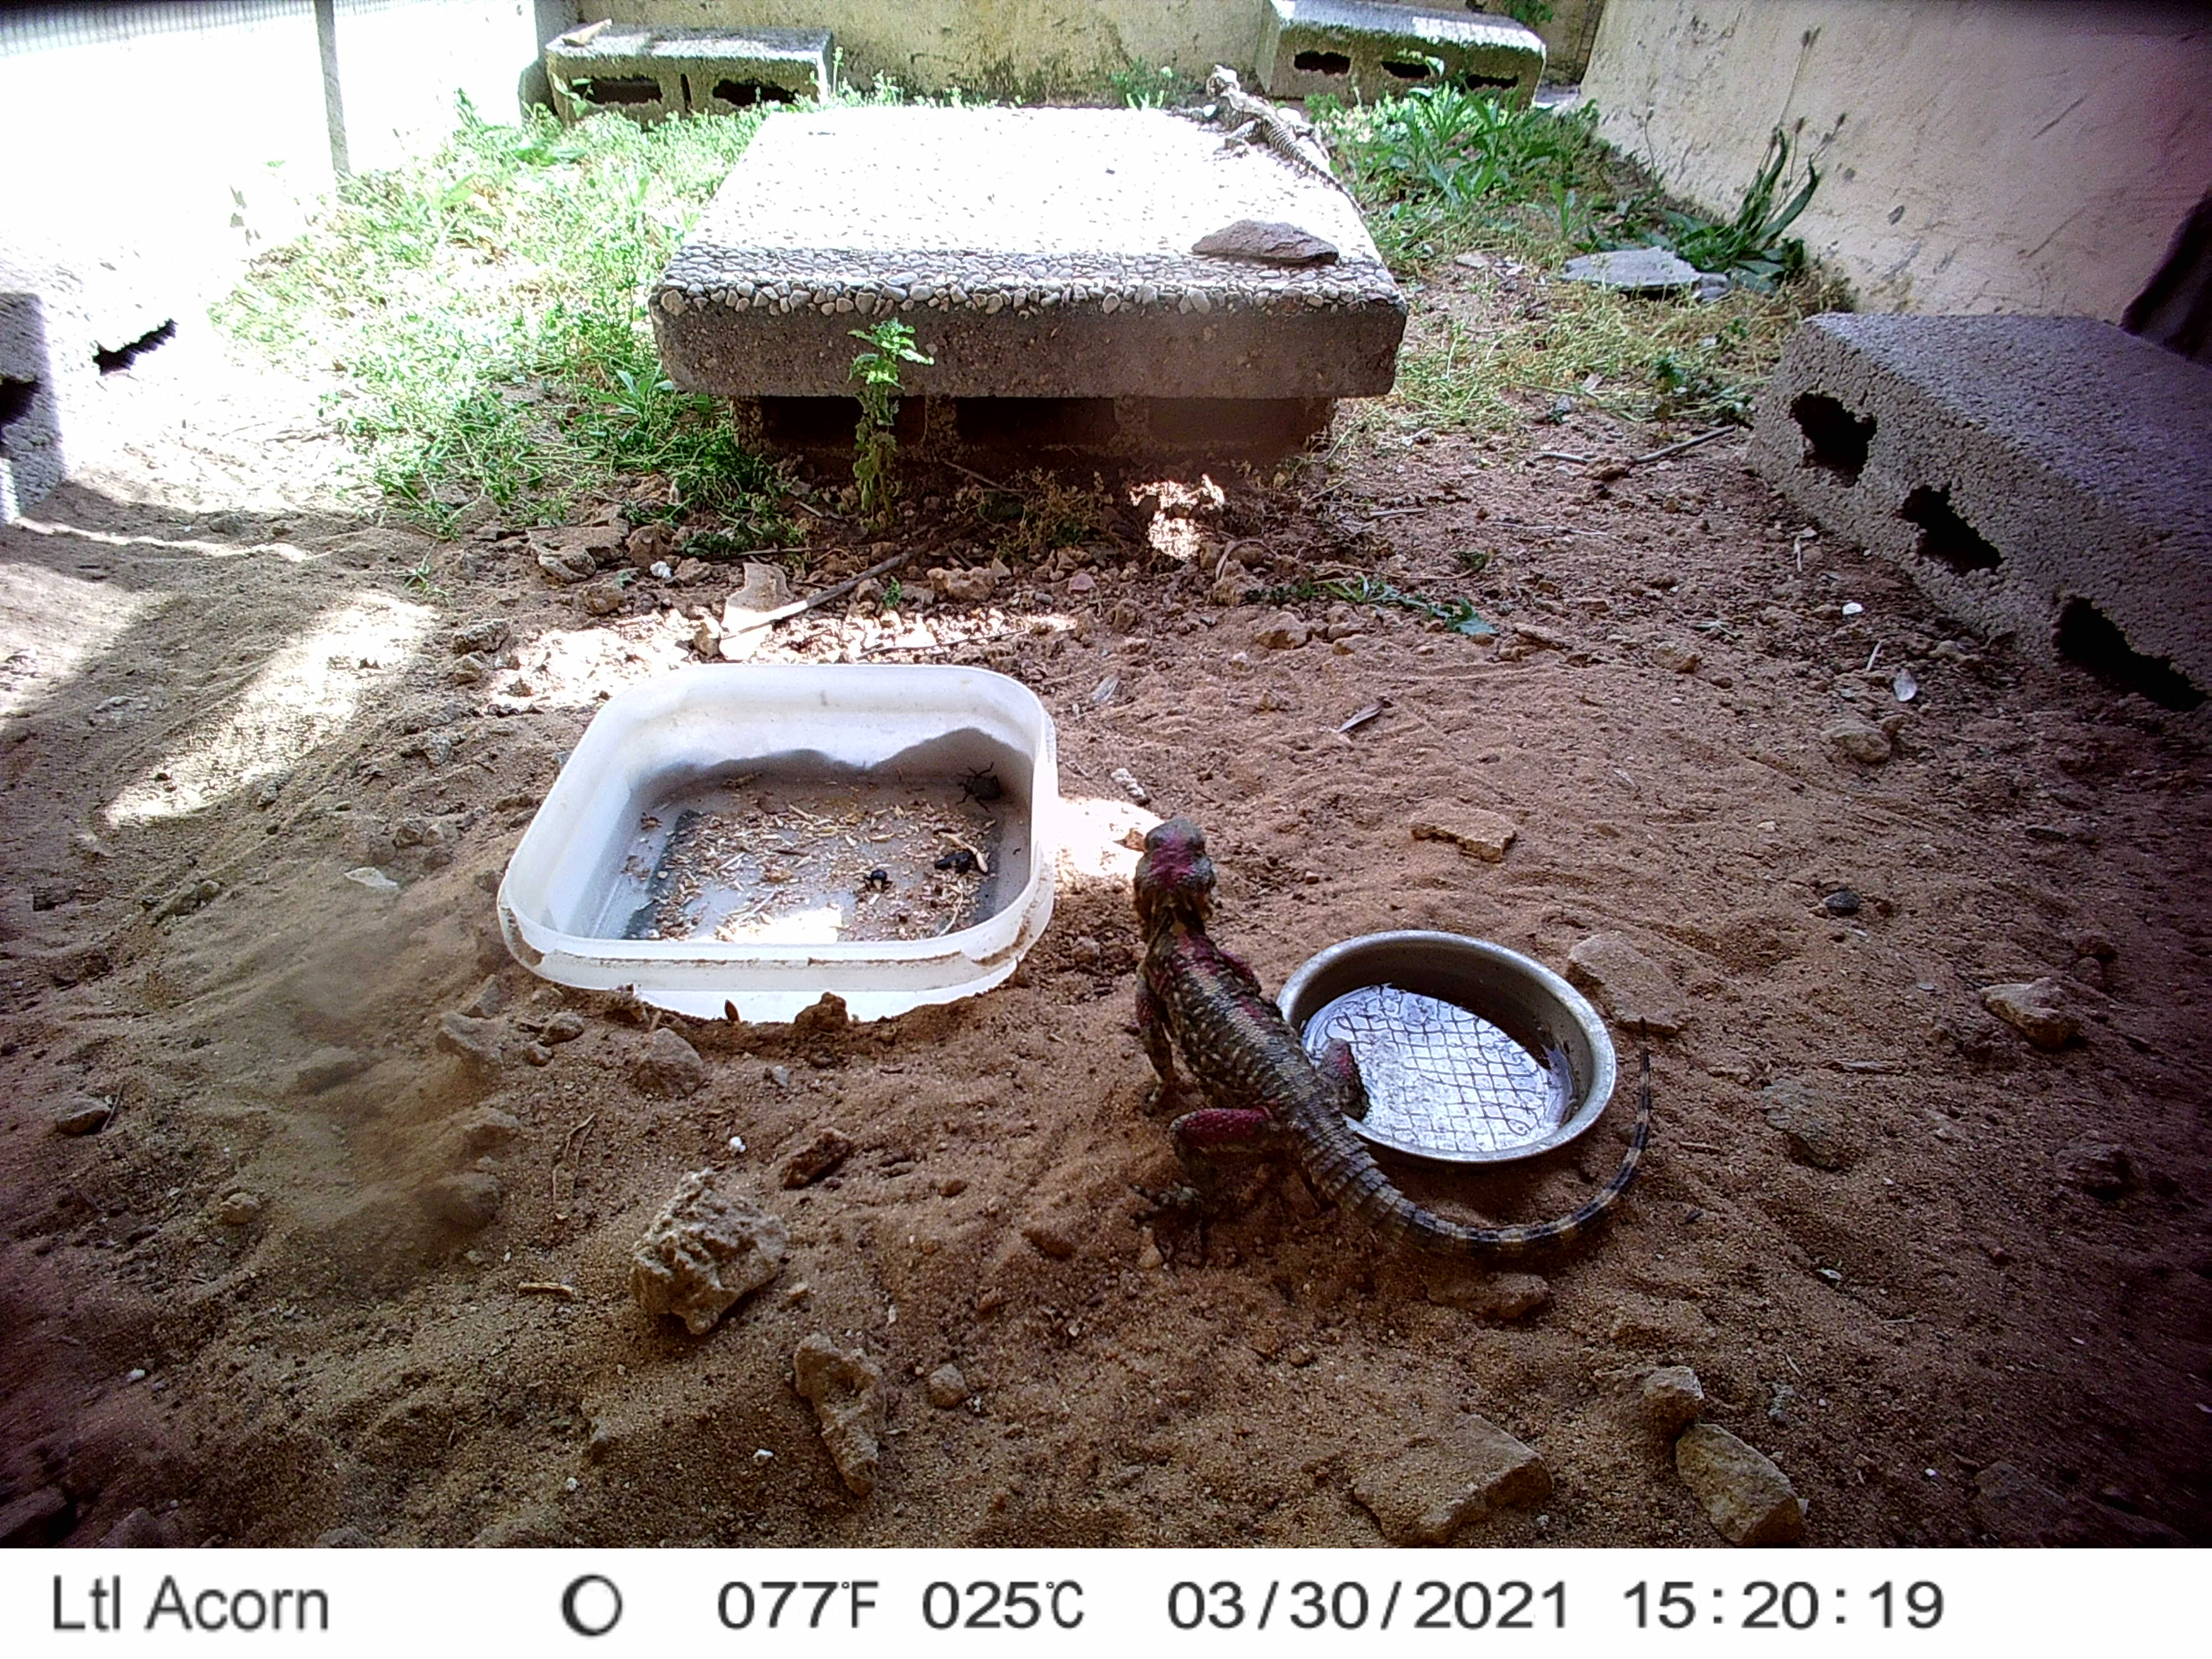lizard: (1136, 810, 1660, 1267), (1170, 66, 1371, 211)
